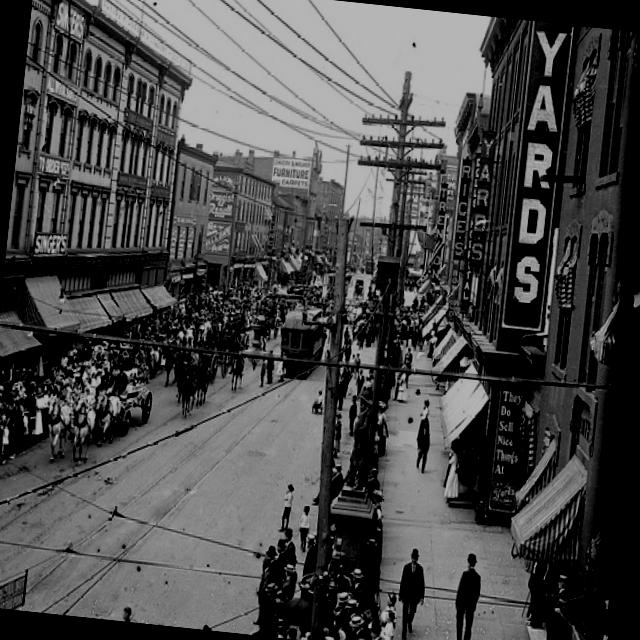Vehicle: (278, 303, 330, 376)
